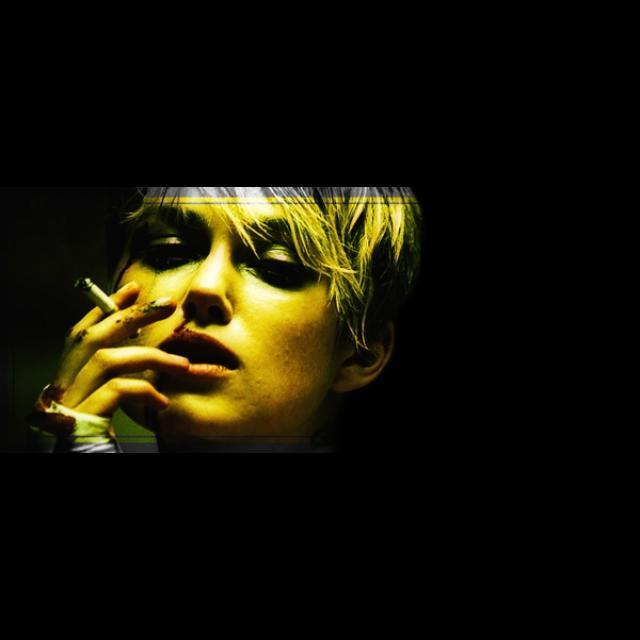rokok: (76, 272, 126, 324)
